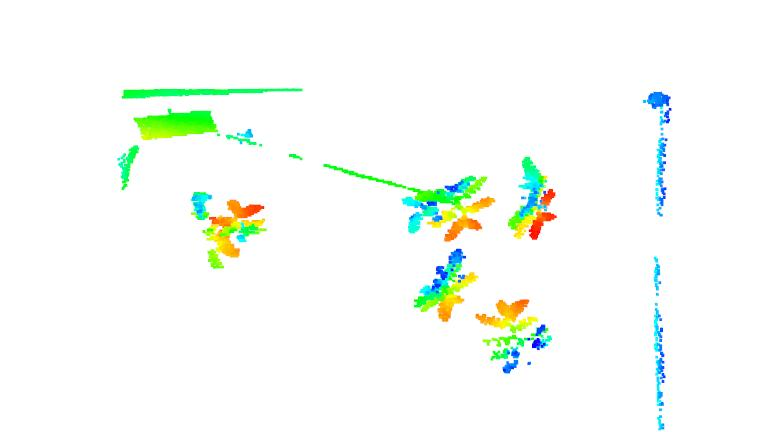chickpea: (187, 185, 268, 268), (400, 172, 491, 243), (476, 298, 554, 373), (414, 249, 477, 324), (505, 155, 556, 238)
